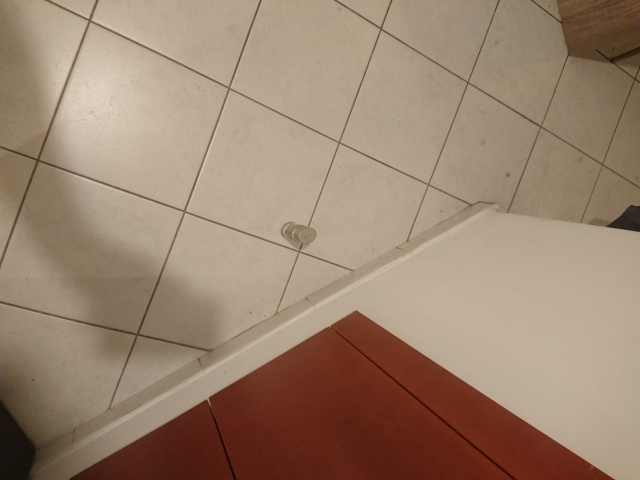Kotanyi Garlic Granules 70g: (280, 220, 318, 247)
